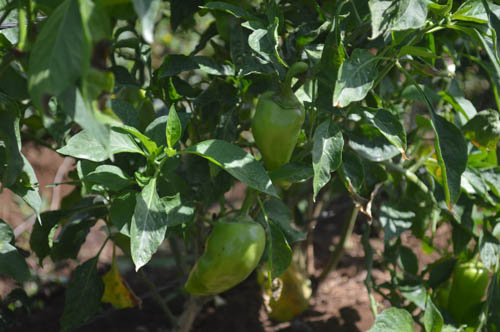ChiliPepper: (184, 219, 266, 303), (250, 93, 305, 173), (448, 263, 485, 320)
